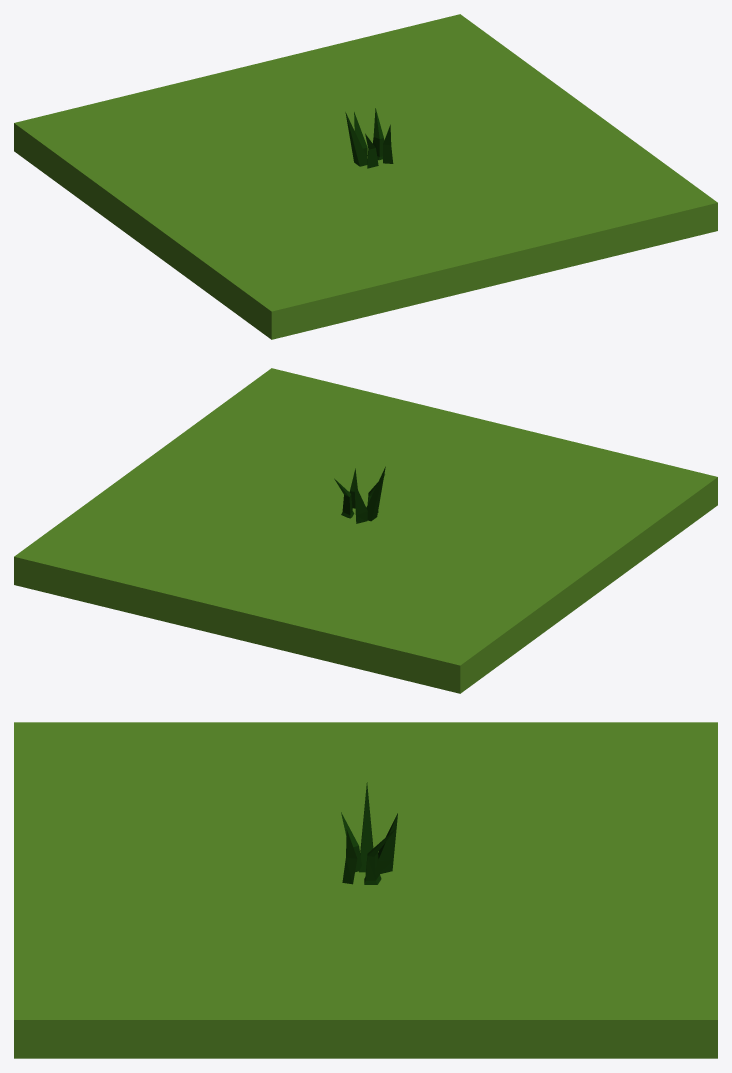
The model's file is CaseGraphHerbe.dae.
The picture shows the model from 3 angles, top to bottom: view 1: azimuth 30°, elevation 25°; view 2: azimuth 150°, elevation 25°; view 3: azimuth 270°, elevation 25°; orthographic projection. The views are drawn at different scales.
Visible parts, largest first — view 1: Cube; view 2: Cube; view 3: Cube, Cube.002, Cylinder, Cube.001.
Part boxes in pixels (x1,y1,x2,y2): Cube: (14,14,717,339); Cube: (14,368,717,693); Cube: (14,722,717,1058); Cube.002: (359,782,373,872); Cylinder: (378,813,397,873); Cube.001: (364,828,396,884).
Bounding box in the file's own units: 5.92 × 5.92 × 1.07.
